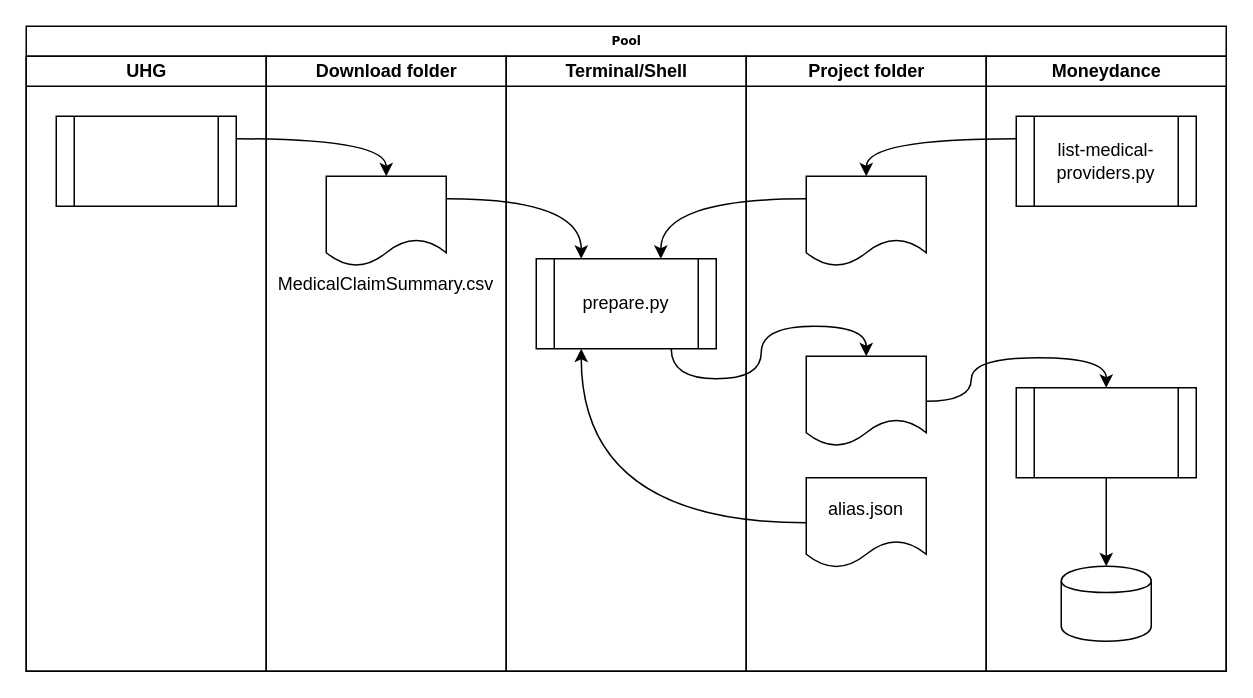
This 1253x698 diagram has some shape labels left out. Each missing label, with the centre of its shape:
Claim portal: the point at 145,160
existing-providers.csv: the point at 865,220
MD Data: the point at 1105,603
med-claims.pkl: the point at 865,400
med-ins-bridge.py: the point at 1105,432
